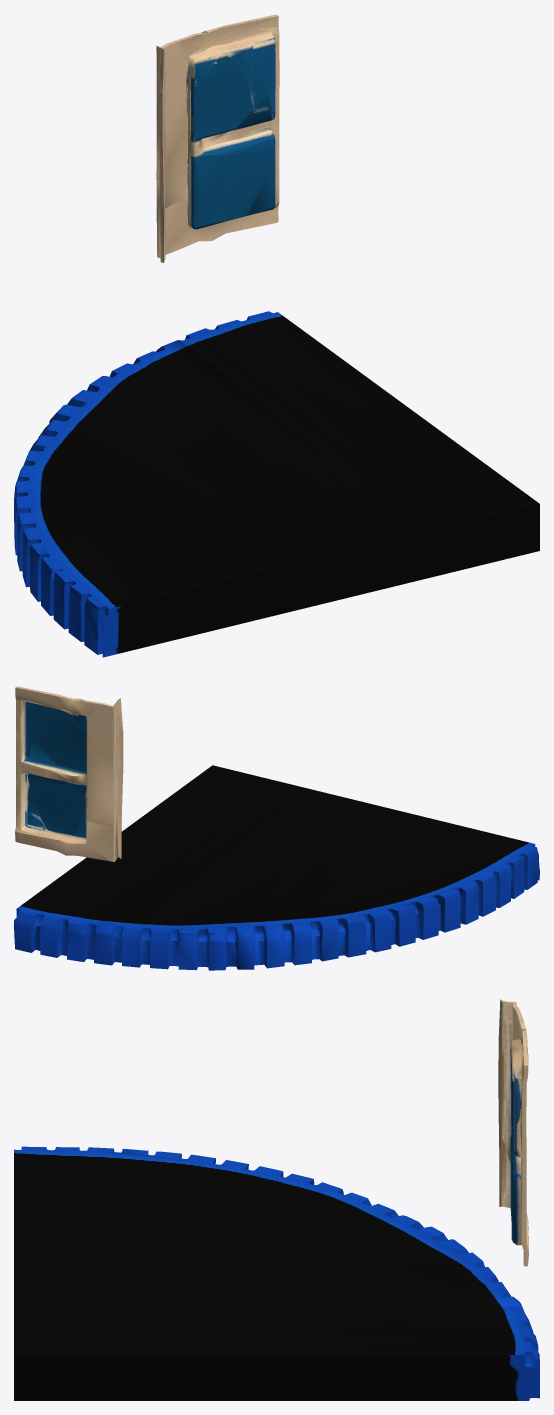
Rendered from 11-roof-back-left.fbx.
3 renders of one model, top to bottom at view 1: azimuth 30°, elevation 25°; view 2: azimuth 150°, elevation 25°; view 3: azimuth 270°, elevation 25°, orthographic. The views are drawn at different scales.
Parts seen in each view (by area): view 1: roof-back-left; view 2: roof-back-left; view 3: roof-back-left.
Boxes of the visible parts, x1,y1,x2,y2 form: roof-back-left: (14, 14, 539, 657); roof-back-left: (14, 686, 539, 970); roof-back-left: (14, 999, 539, 1400).
Size of the model in its own units: 4641 by 3539 by 4941.
1 material, 1 textured.
